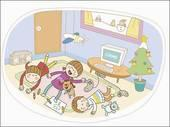person: (40, 59, 85, 103), (17, 52, 58, 94), (71, 85, 114, 115)
pottedplant: (128, 34, 155, 91)
tvmonitor: (99, 42, 127, 70)
